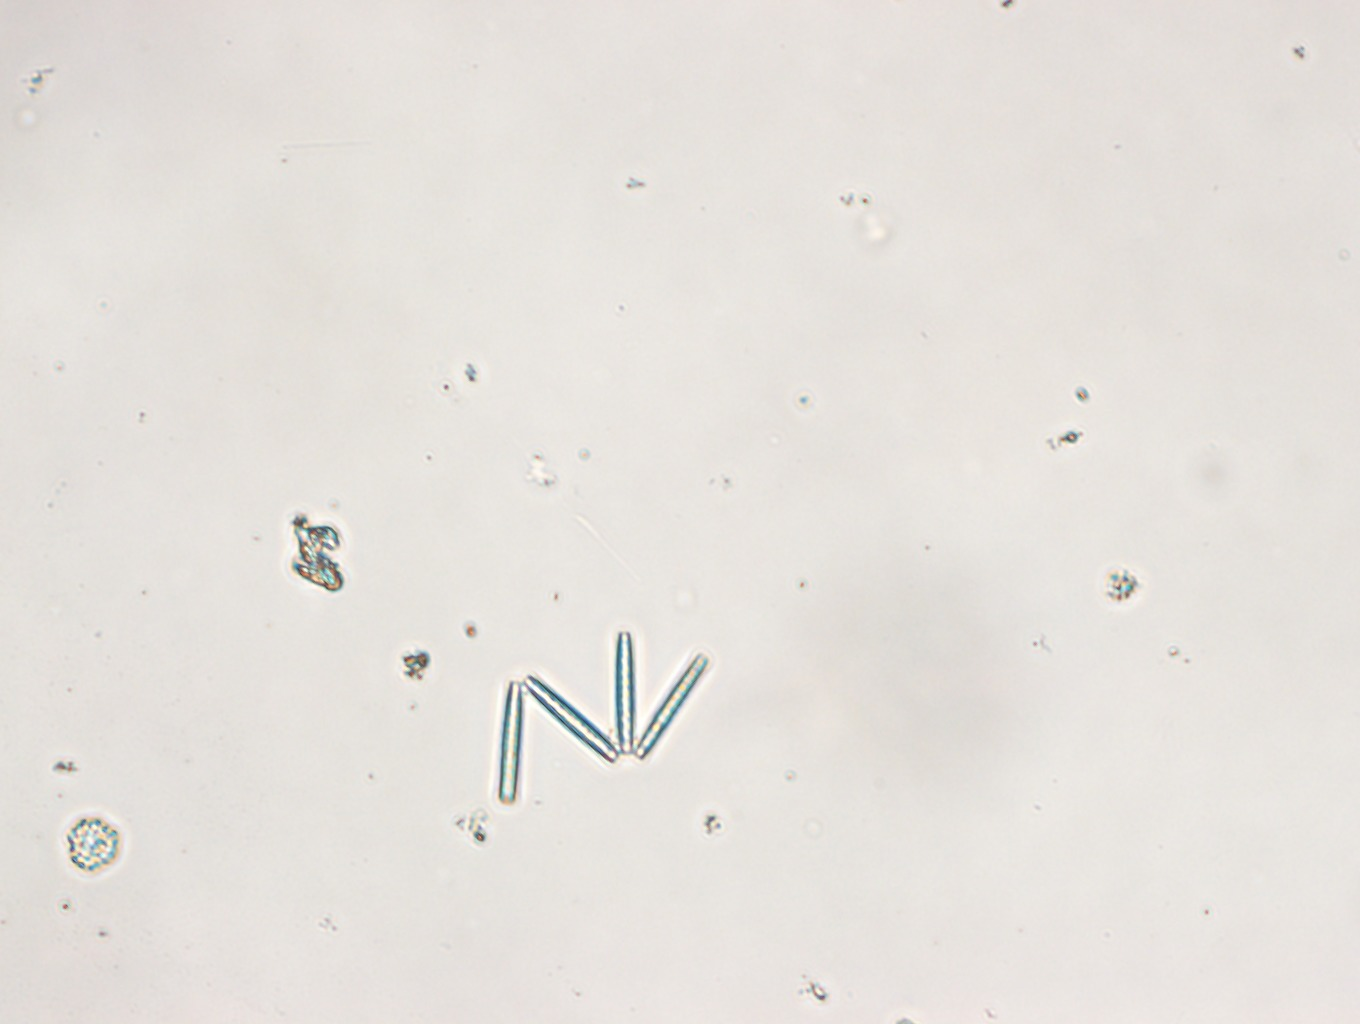thalassionema nitzschioides: (490, 625, 714, 803)
